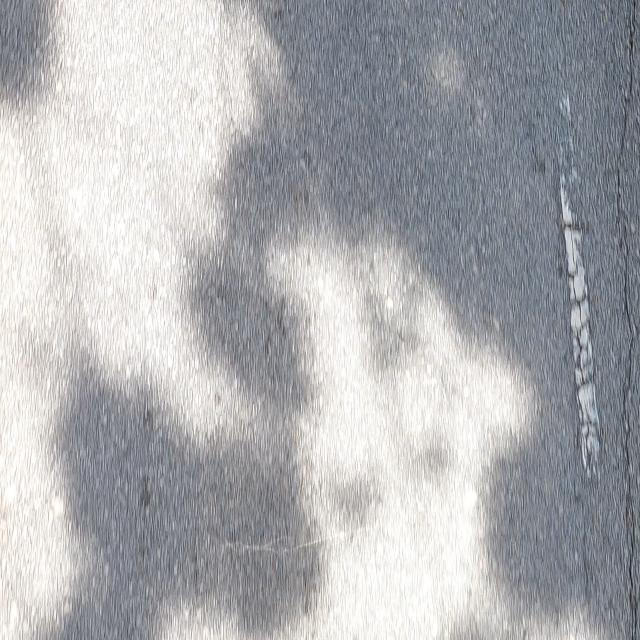Retak-Memanjang: (613, 2, 640, 635)
